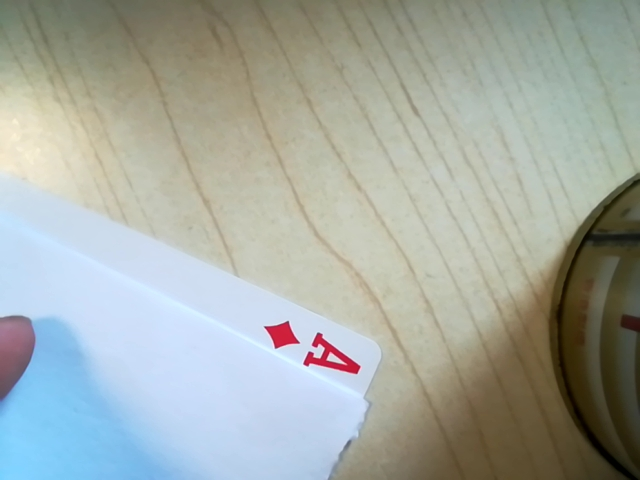fk a: (255, 316, 372, 384)
